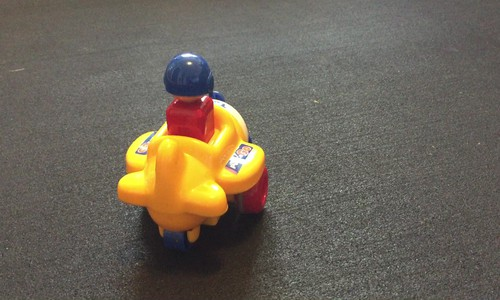toy: (115, 48, 278, 258)
